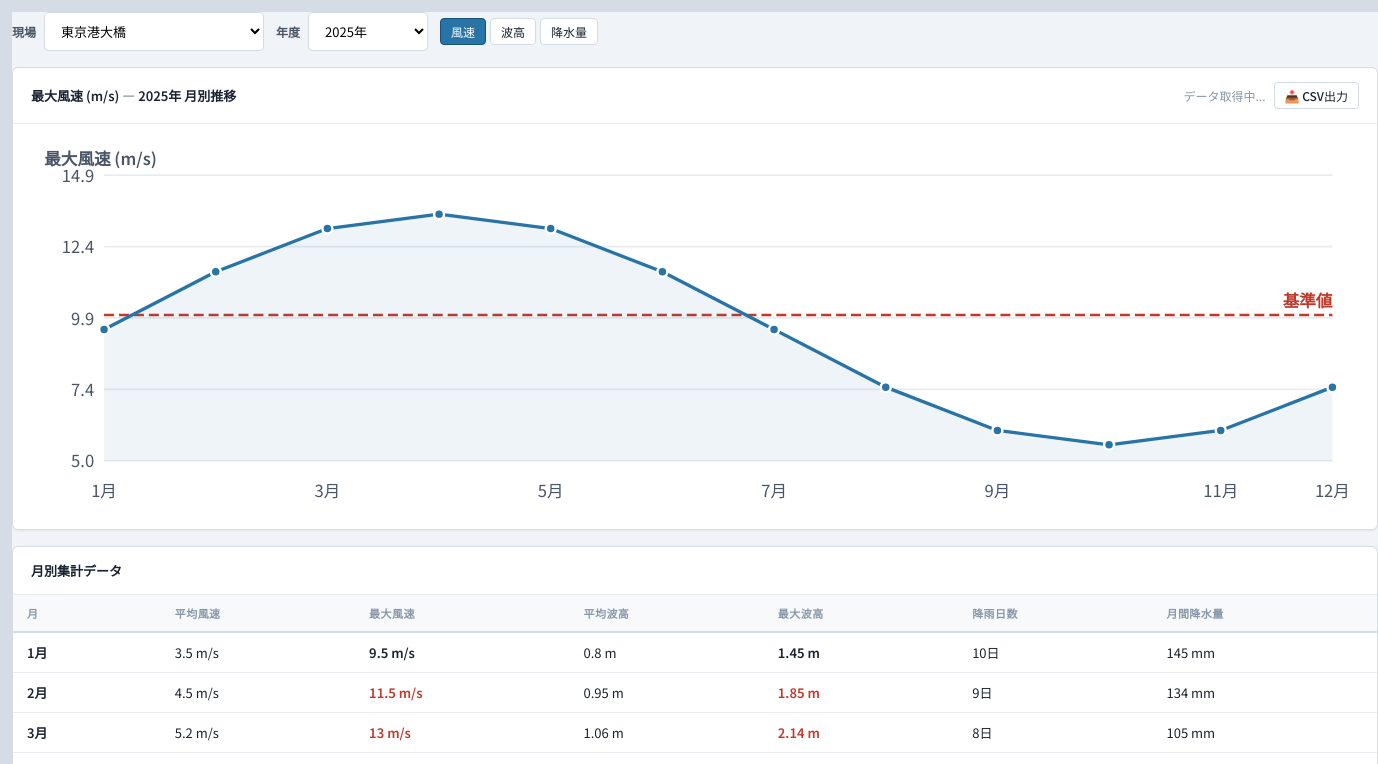
Test case: HistoricalPage › switching to 降水量 swaps in a BarChart with 月間降水量 label
Click the button "降水量" at (569, 32), box [540,18,598,45]
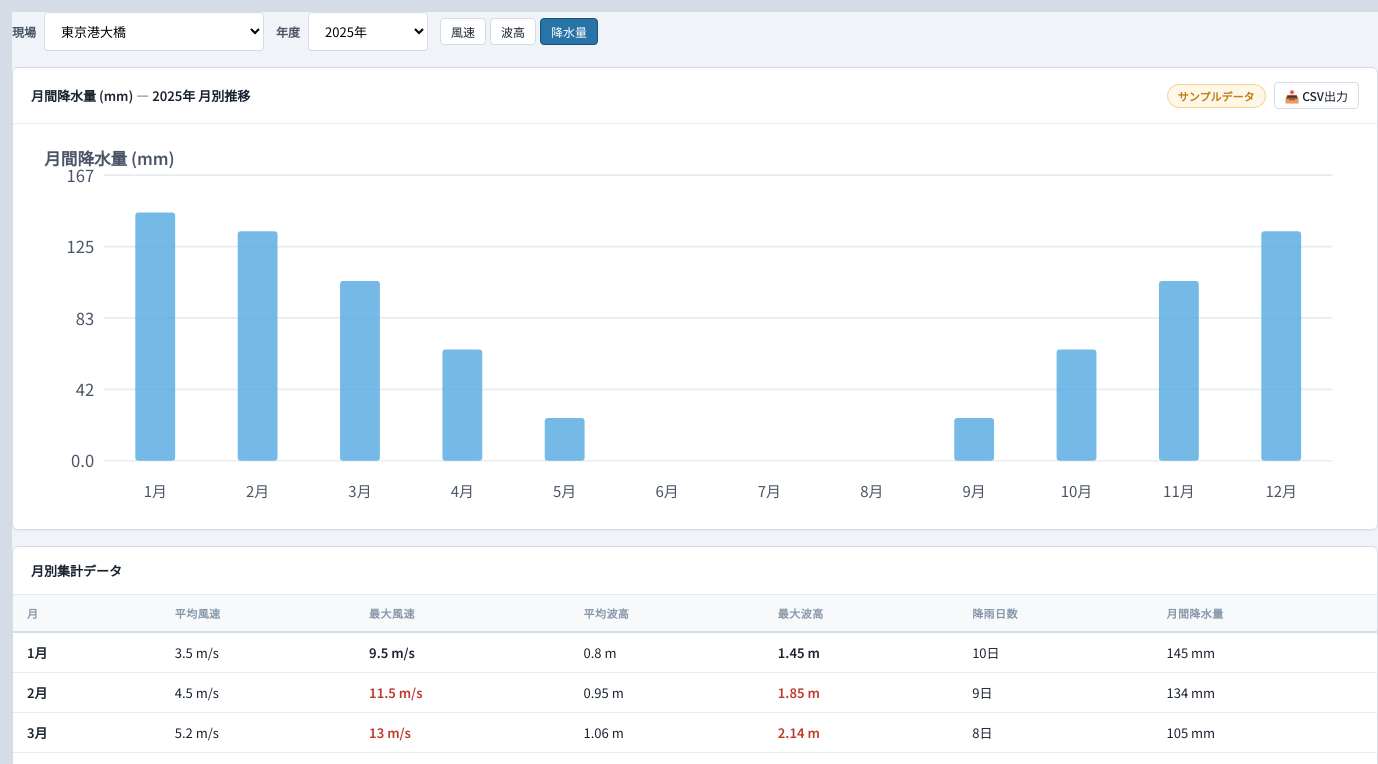
expect the text "月間降水量 (mm)" is shown: met, box [31,86,133,105]
